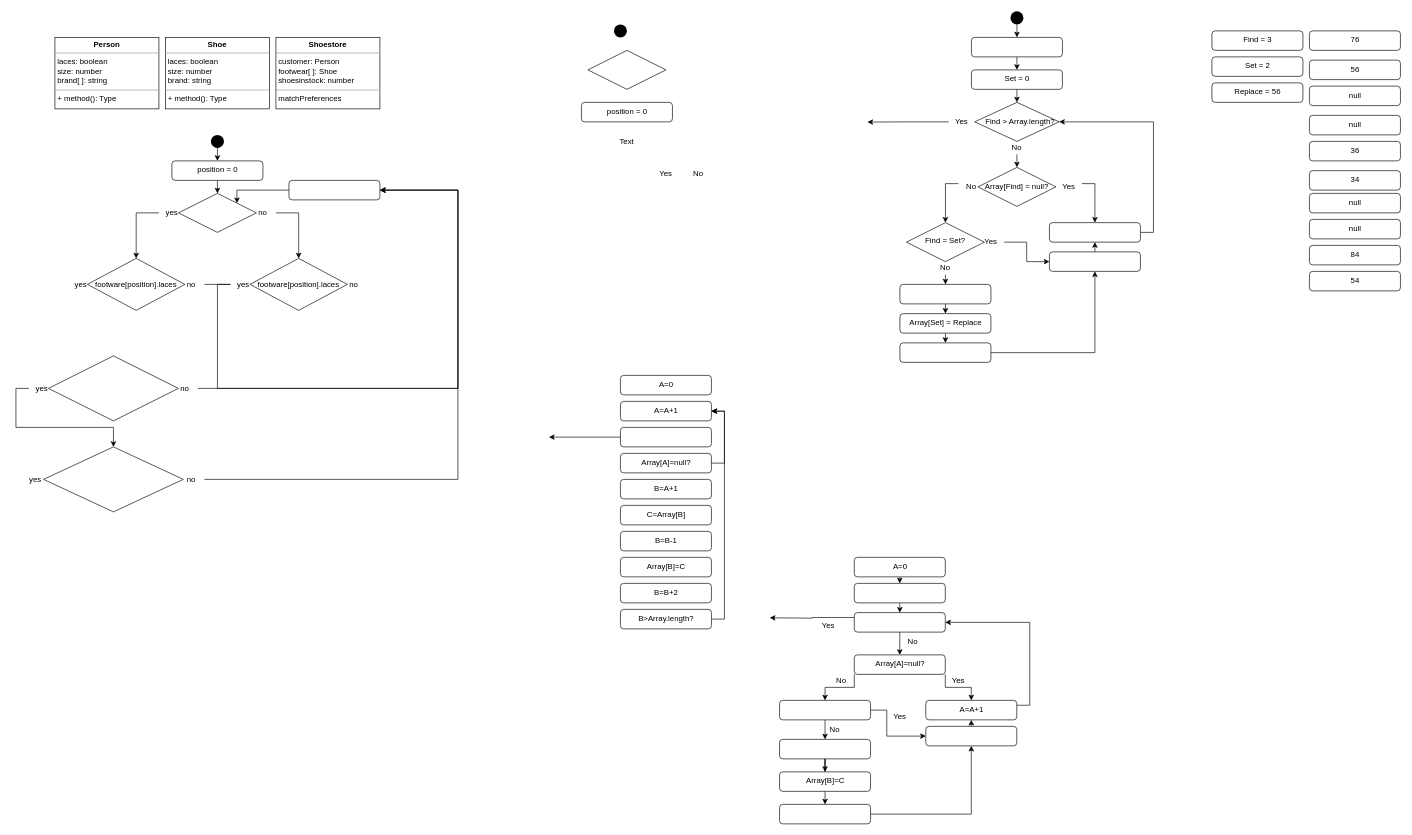
This 1412x835 diagram has some shape labels left out. The centre of each missing label's shape, as x and y in pixels:
"A=Array.length?" belongs at pixel 665 437.
"A=B?" belongs at pixel 825 710.
"A>Array.length?" belongs at pixel 899 622.
"Array[A]=null" belongs at pixel 825 814.
"Array[Find] = null" belongs at pixel 945 352.
"B=0" belongs at pixel 899 593.
"B=B+1" belongs at pixel 971 736.
"C=Array[A]" belongs at pixel 825 749.
"customer.brand = footwear.brand?" belongs at pixel 113 479.
"Customer.laces?" belongs at pixel 217 212.
"customer.size = footwear.size?" belongs at pixel 113 388.
"Find = 0" belongs at pixel 1016 47.
"Find = Find + 1" belongs at pixel 1094 232.
"position = position + 1" belongs at pixel 334 190.
"Replace = Array[Find]" belongs at pixel 945 294.
"Set = Set + 1" belongs at pixel 1094 261.
